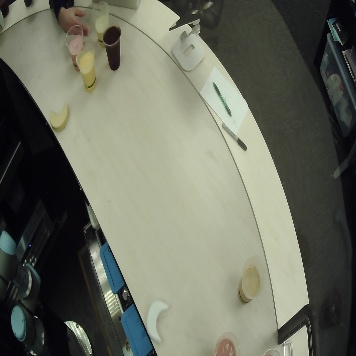full_cup: (236, 255, 265, 304), (75, 43, 98, 91), (102, 24, 123, 70), (90, 1, 110, 46), (213, 329, 240, 356), (66, 25, 83, 67)
puck: (145, 298, 169, 344), (47, 104, 70, 132)
